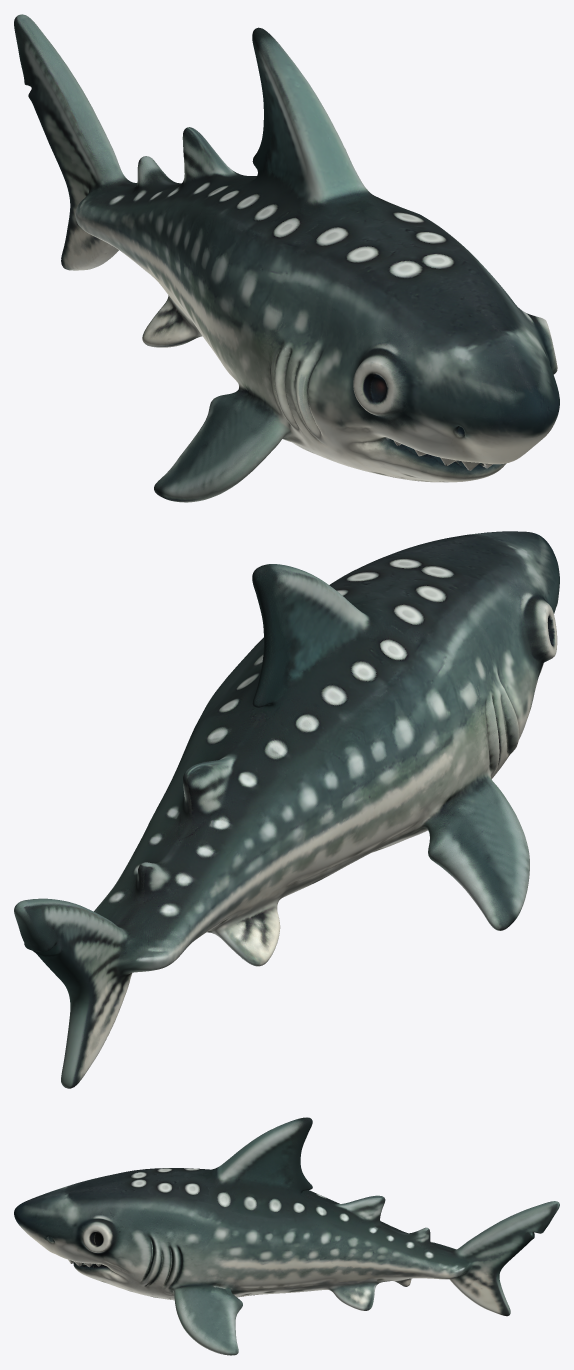
Rendered from Requin.fbx.
The picture shows the model from 3 angles, top to bottom: view 1: azimuth 30°, elevation 25°; view 2: azimuth 150°, elevation 25°; view 3: azimuth 270°, elevation 25°; orthographic projection. The views are drawn at different scales.
Visible parts, largest first — view 1: Mesh_0; view 2: Mesh_0; view 3: Mesh_0.
Part boxes in pixels (box(x1,y1,x2,y2)): Mesh_0: box(14, 14, 559, 502); Mesh_0: box(14, 531, 559, 1088); Mesh_0: box(14, 1117, 559, 1355).
Bounding box in the file's own units: 74.07 × 75.94 × 190.
Materials: 1 (1 with a texture image).
